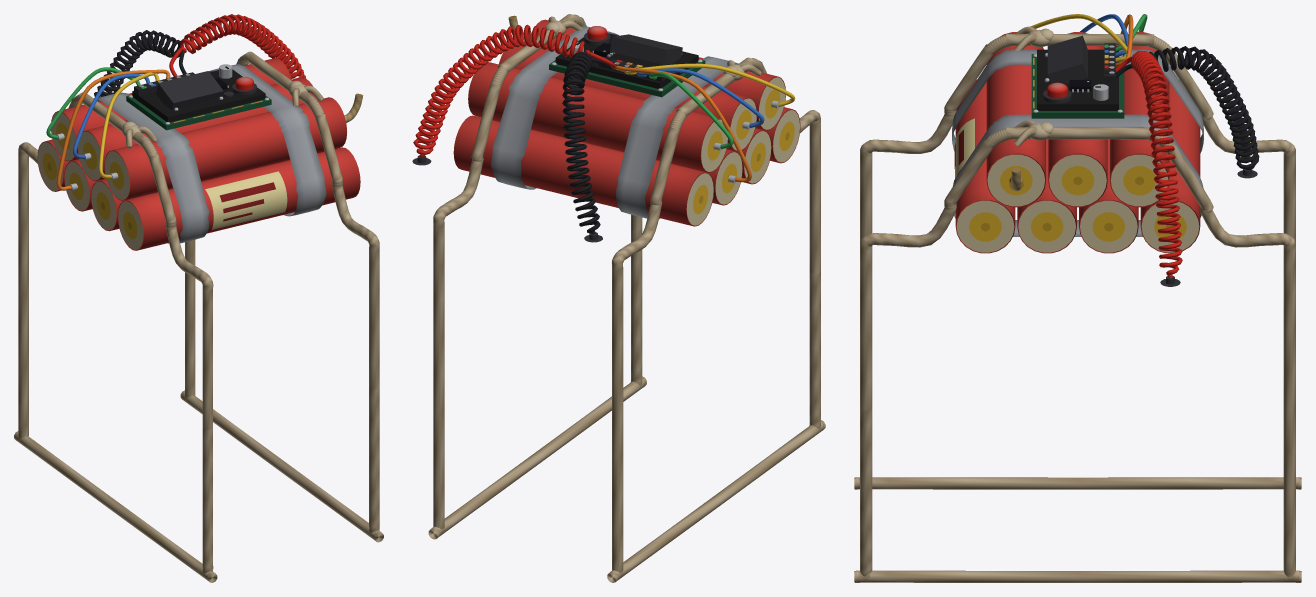
File: caja-bomba.glb
3 views of the same model, side by side, from view 1: azimuth 30°, elevation 25°; view 2: azimuth 150°, elevation 25°; view 3: azimuth 270°, elevation 25° (orthographic). The views are drawn at different scales.
Visible parts, largest first — view 1: caja-bomba; view 2: caja-bomba; view 3: caja-bomba.
Part boxes in pixels (box(x1,y1,x2,y2)): caja-bomba: box(14, 14, 383, 582); caja-bomba: box(412, 14, 825, 582); caja-bomba: box(854, 14, 1301, 582).
Size of the model in its own units: 0.743 by 1.08 by 0.8713.
